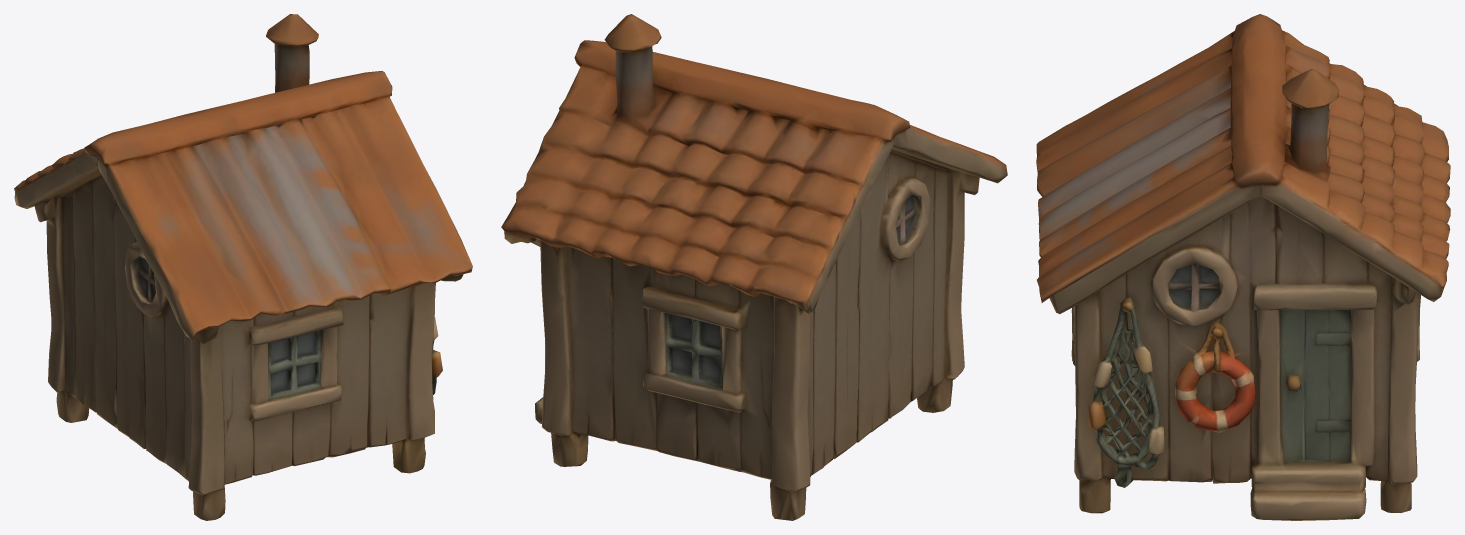
Rendered from fishing-hut.glb.
The picture shows the model from 3 angles, left to right: view 1: azimuth 30°, elevation 25°; view 2: azimuth 150°, elevation 25°; view 3: azimuth 270°, elevation 25°; orthographic projection. The views are drawn at different scales.
Visible parts, largest first — view 1: tripo_node_90779f72-991e-45df-8ac3-ec5f02319e3a; view 2: tripo_node_90779f72-991e-45df-8ac3-ec5f02319e3a; view 3: tripo_node_90779f72-991e-45df-8ac3-ec5f02319e3a.
Part boxes in pixels (<box>): tripo_node_90779f72-991e-45df-8ac3-ec5f02319e3a: <box>14,14,472,520</box>; tripo_node_90779f72-991e-45df-8ac3-ec5f02319e3a: <box>501,14,1007,520</box>; tripo_node_90779f72-991e-45df-8ac3-ec5f02319e3a: <box>1036,14,1450,520</box>.
Bounding box in the file's own units: 0.7928 × 1 × 0.8762.
1 material, 1 textured.
